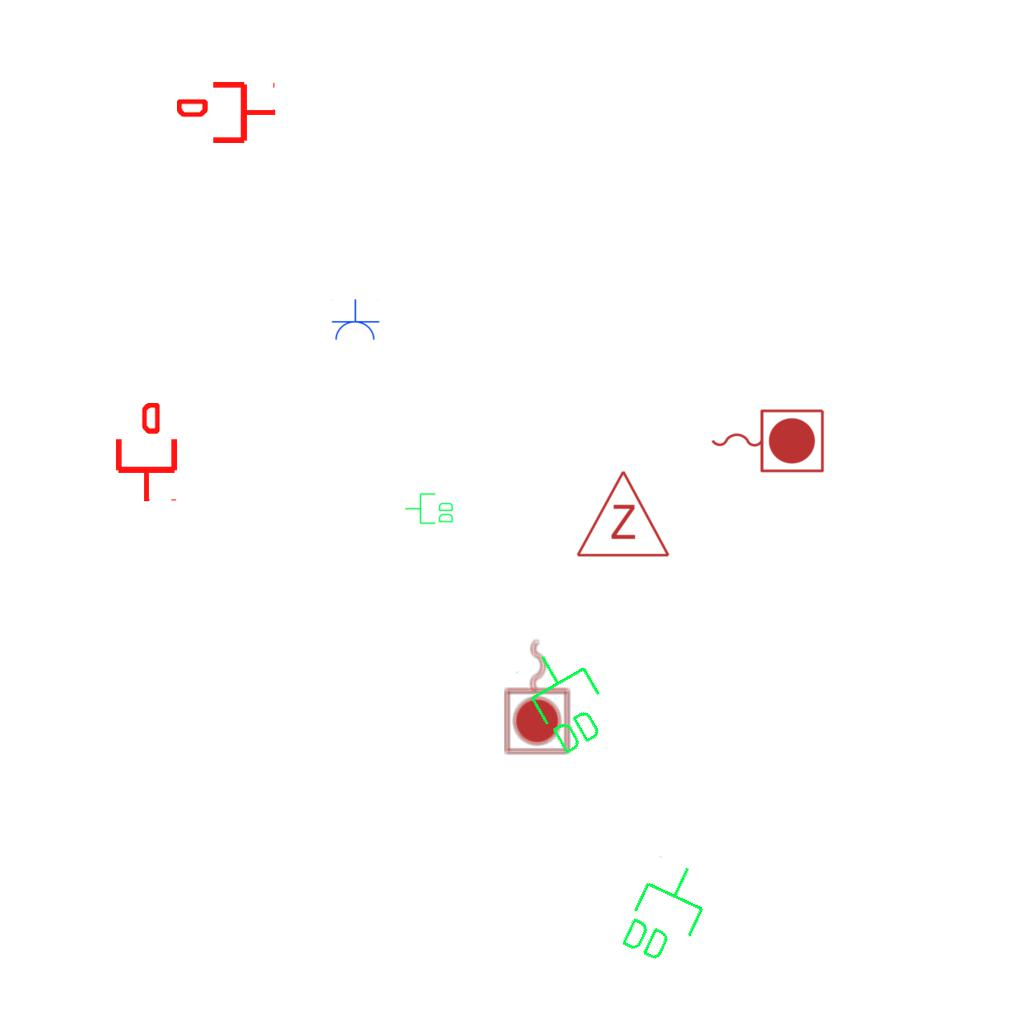Datenanschluss_einfach: (177, 78, 277, 147), (112, 403, 181, 503)
Datenanschluss_zweifach: (510, 637, 623, 762), (613, 851, 720, 974), (404, 492, 455, 526)
Schukosteckdose_einfach: (330, 299, 380, 342)
Zimmersignalleuchte: (573, 464, 671, 564)
Zugtaster: (502, 635, 574, 757), (706, 404, 828, 476)
